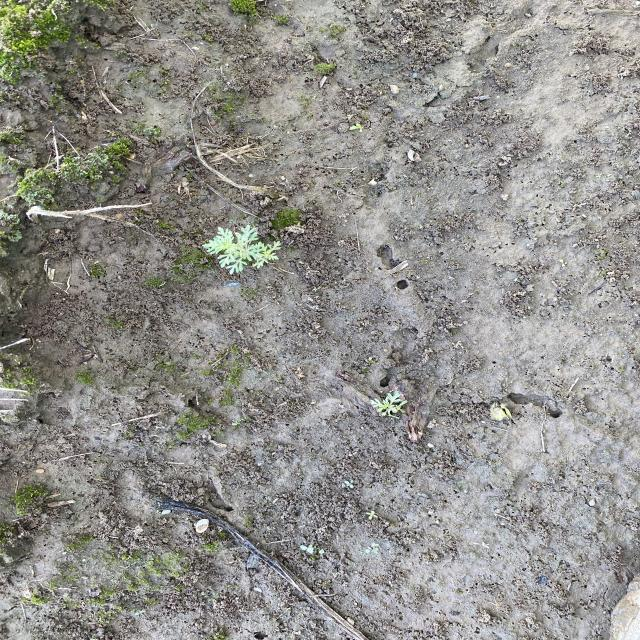Ragweed: (200, 222, 284, 274), (370, 391, 410, 418)
